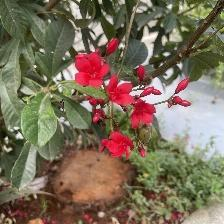jatropha: (75, 52, 110, 88), (103, 132, 136, 162), (108, 73, 135, 109), (131, 97, 157, 132)
